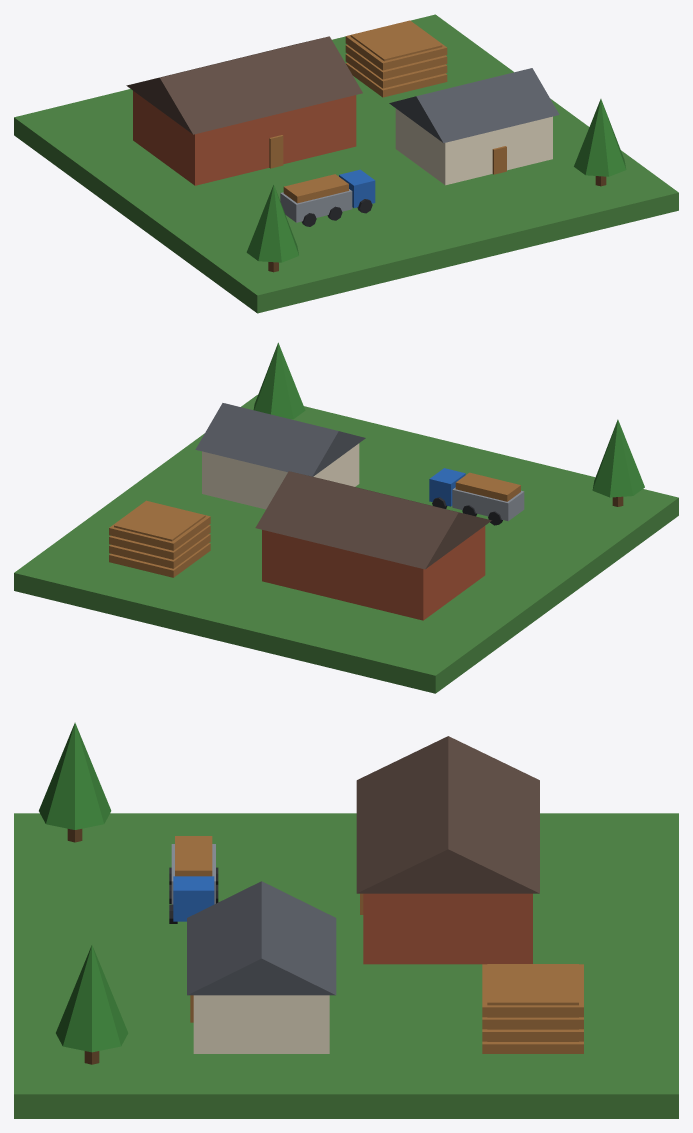
Rendered from forest_income_2.glb.
3 views of the same model, one above another, from view 1: azimuth 30°, elevation 25°; view 2: azimuth 150°, elevation 25°; view 3: azimuth 270°, elevation 25° (orthographic). The views are drawn at different scales.
Visible parts, largest first — view 1: forest_income_2; view 2: forest_income_2; view 3: forest_income_2.
Part boxes in pixels (<box>): forest_income_2: <box>14,14,678,313</box>; forest_income_2: <box>14,342,678,693</box>; forest_income_2: <box>14,722,678,1118</box>.
Bounding box in the file's own units: 1.96 × 0.464 × 1.96.
